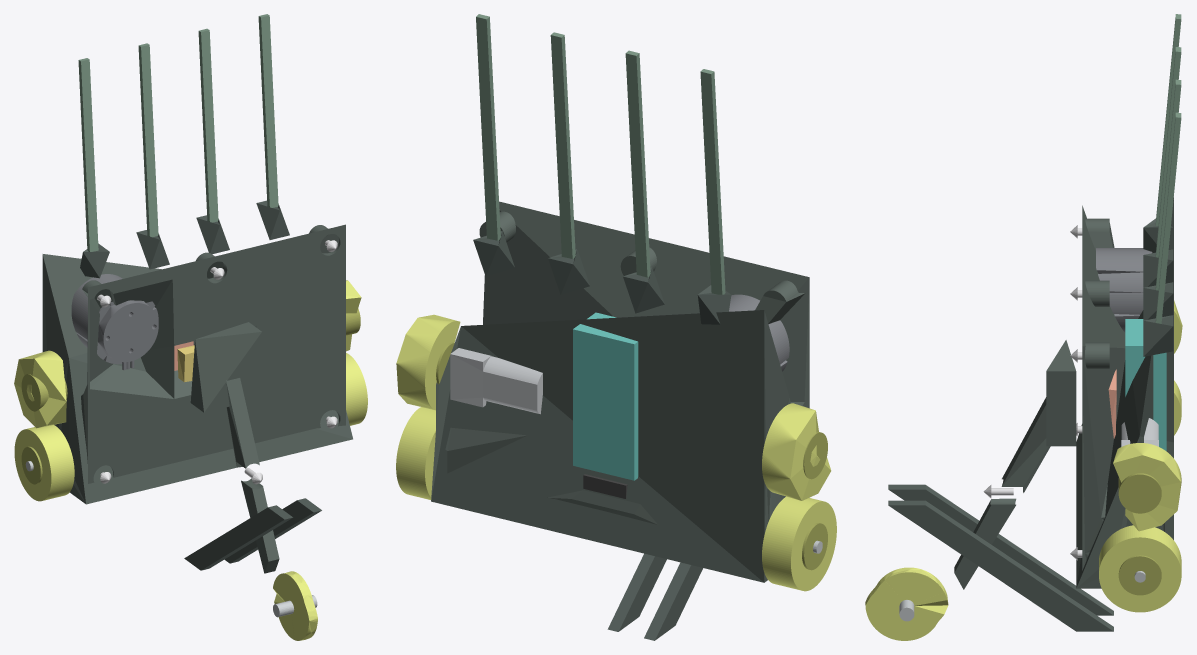
The model's file is ablation.glb.
The picture shows the model from 3 angles, left to right: view 1: azimuth 30°, elevation 25°; view 2: azimuth 150°, elevation 25°; view 3: azimuth 270°, elevation 25°; orthographic projection. The views are drawn at different scales.
Parts seen in each view (by area): view 1: chassis, arm_base, weapon_motor, wheel_r0, arm, wheel_r1, dt_arm_weapon_0, fork_0, fork_2, fork_3, fork_1, weapon (+9 smaller); view 2: chassis, el_battery, wheel_r0, dm_wheel_l1, wheel_r1, wheel_l1, fork_1, fork_3, fork_2, fork_0, wheel_l0, dt_arm_weapon_0 (+9 smaller); view 3: chassis, dt_arm_weapon_1, wheel_l0, weapon, arm, wheel_l1, dt_arm_weapon_0, weapon_motor, arm_base, el_battery, dt_hub_wheel_l1, fork_3 (+9 smaller).
Part boxes in pixels (x1,y1,x2,y2): chassis: (42,224,352,504); arm_base: (190,322,262,412); weapon_motor: (71,274,158,370); wheel_r0: (14,425,74,501); arm: (226,378,279,573); wheel_r1: (14,350,66,428); dt_arm_weapon_0: (184,505,292,570); fork_0: (78,58,98,251); fork_2: (198,28,218,222); fork_3: (258,14,278,207); fork_1: (138,43,158,237); weapon: (273,571,317,640); chassis: (431,201,809,582); el_battery: (573,312,638,480); wheel_r0: (762,496,836,591); dm_wheel_l1: (450,348,542,414); wheel_r1: (762,403,831,500); wheel_l1: (396,314,460,410); fork_1: (625,50,650,277); fork_3: (476,14,500,240); fork_2: (550,32,575,258); fork_0: (700,69,725,294); wheel_l0: (396,407,435,499); dt_arm_weapon_0: (644,562,703,640); chassis: (1076,197,1173,588); dt_arm_weapon_1: (888,500,1113,631); wheel_l0: (1099,525,1181,612); weapon: (865,567,948,640); arm: (954,397,1050,589); wheel_l1: (1113,443,1181,531); dt_arm_weapon_0: (888,484,1113,615); weapon_motor: (1096,248,1152,332); arm_base: (1046,340,1076,446); el_battery: (1125,319,1166,451); dt_hub_wheel_l1: (1118,473,1161,513); fork_3: (1155,112,1181,323).
Bounding box in the file's own units: 112 × 168 × 84.33.
